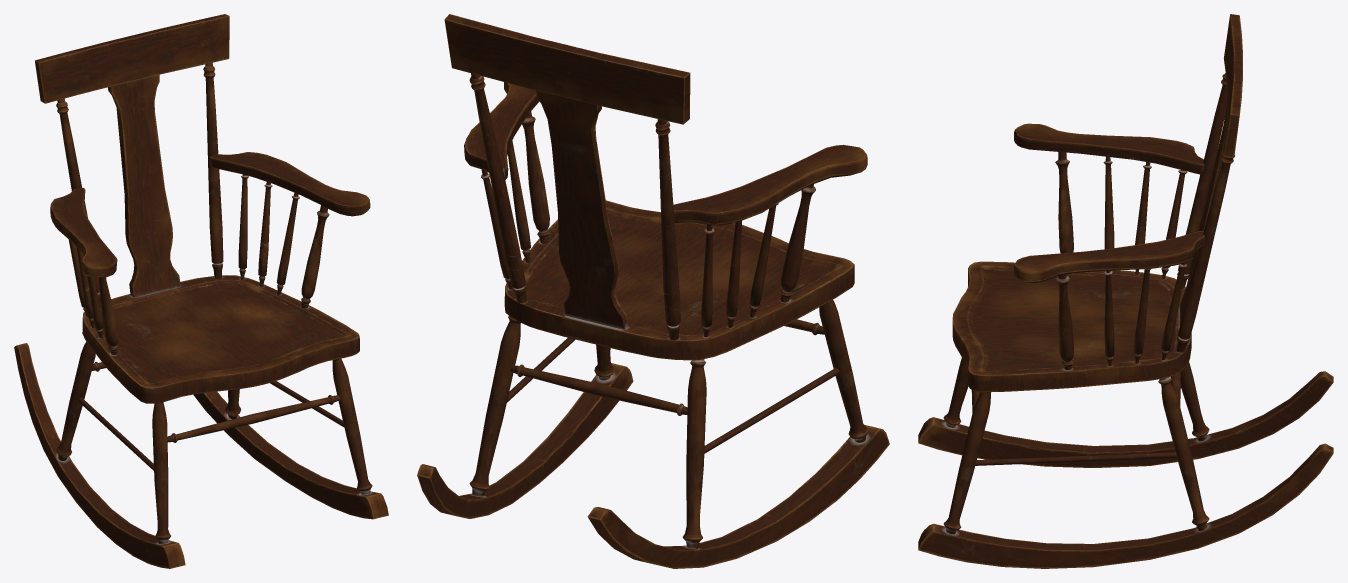
Rendered from Rockingchair_01.glb.
3 views of the same model, side by side, from view 1: azimuth 30°, elevation 25°; view 2: azimuth 150°, elevation 25°; view 3: azimuth 270°, elevation 25° (orthographic). The views are drawn at different scales.
Parts seen in each view (by area): view 1: Rockingchair_01; view 2: Rockingchair_01; view 3: Rockingchair_01.
Boxes of the visible parts, x1,y1,x2,y2 form: Rockingchair_01: (14, 14, 388, 568); Rockingchair_01: (417, 14, 889, 568); Rockingchair_01: (918, 14, 1333, 568).
Bounding box in the file's own units: 0.7081 × 0.9949 × 0.8335.
Materials: 1 (1 with a texture image).
